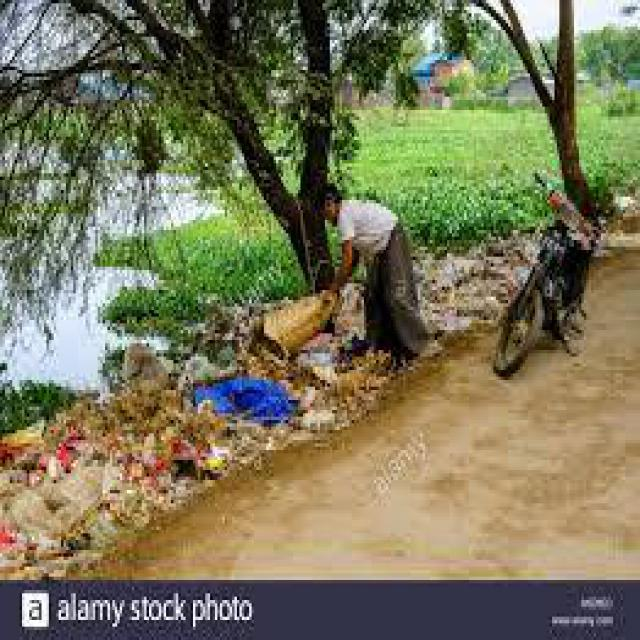garbage: (0, 423, 205, 530), (132, 366, 308, 456), (278, 300, 366, 407), (423, 240, 520, 310)
